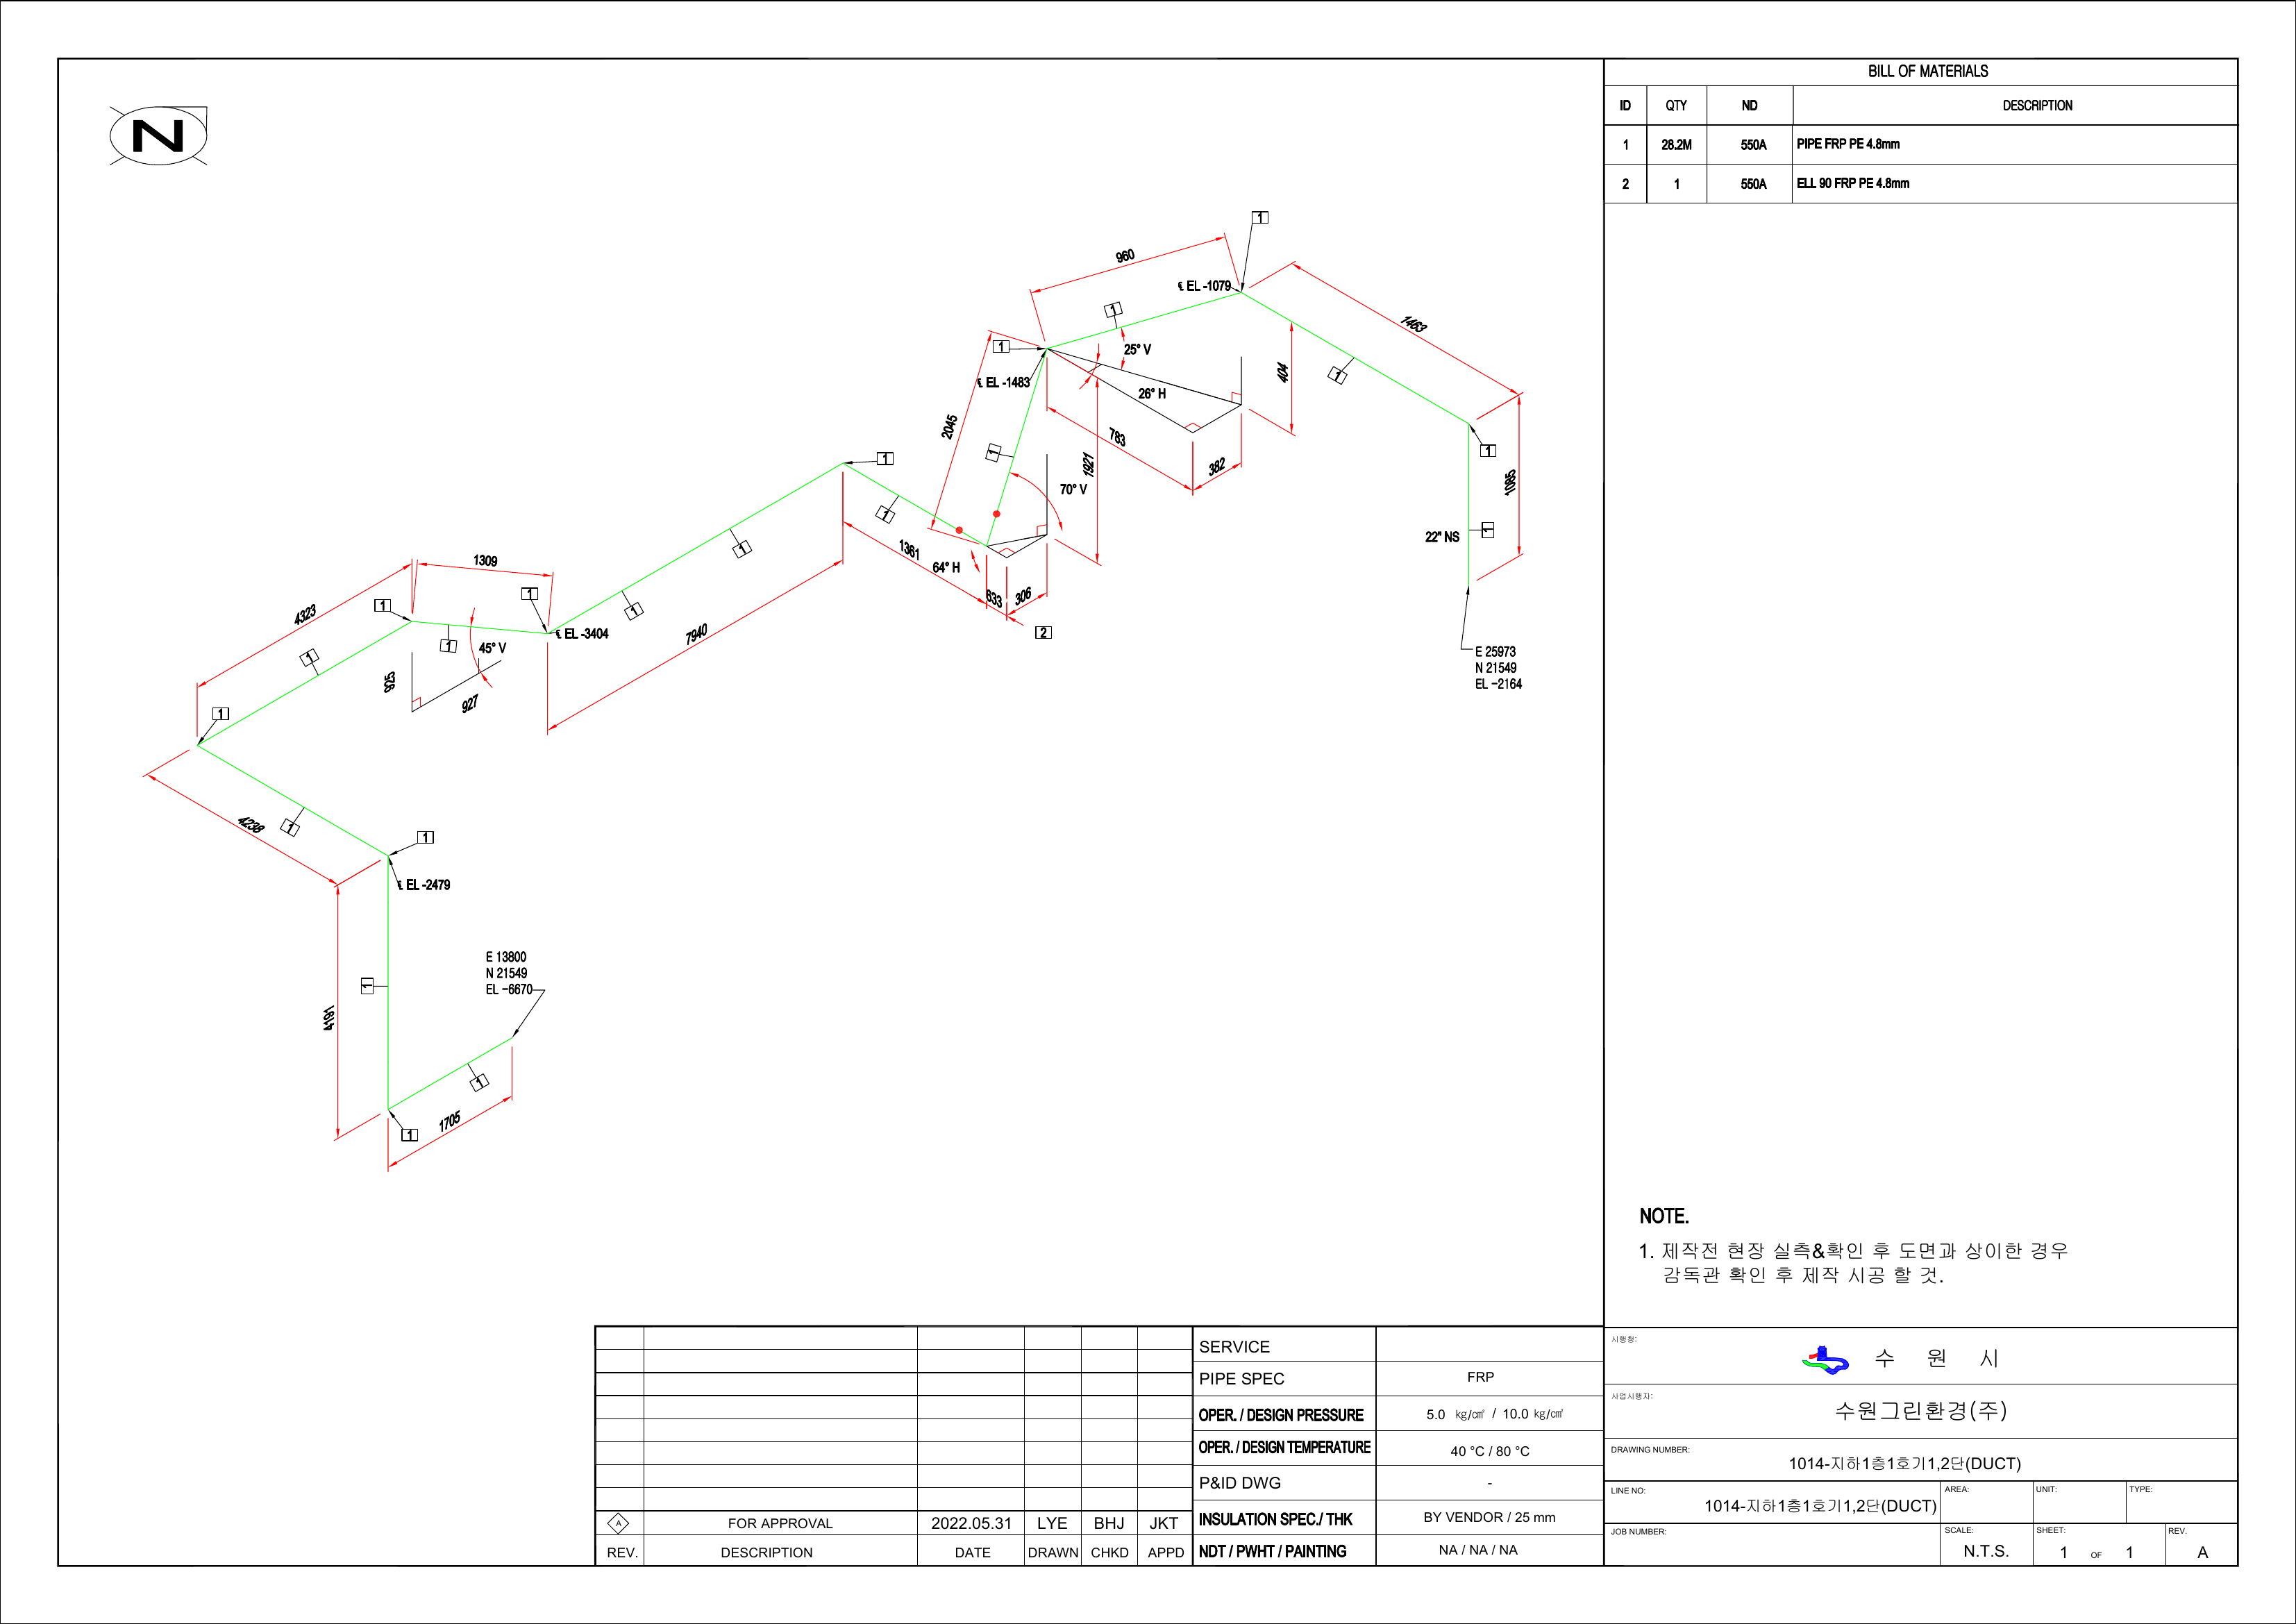table: (1597, 46, 2243, 214)
